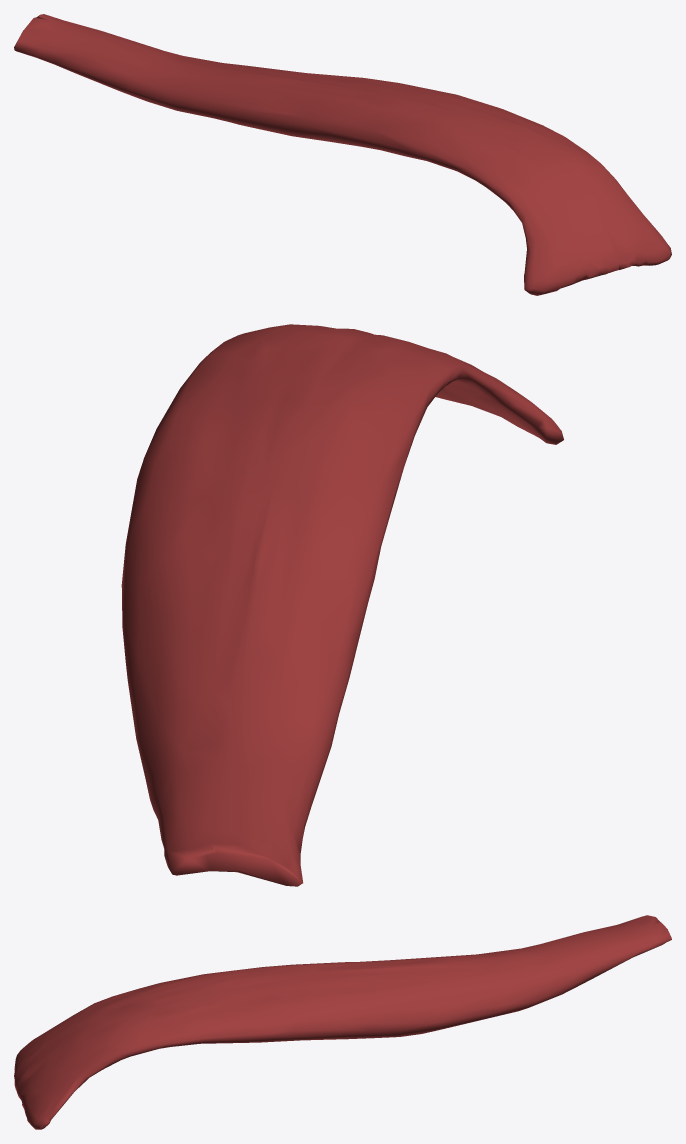
File: superior-rectus-muscle-l.glb
3 views of the same model, one above another, from view 1: azimuth 30°, elevation 25°; view 2: azimuth 150°, elevation 25°; view 3: azimuth 270°, elevation 25° (orthographic). The views are drawn at different scales.
Visible parts, largest first — view 1: Superior rectus muscle.l; view 2: Superior rectus muscle.l; view 3: Superior rectus muscle.l.
Part boxes in pixels (<box>): Superior rectus muscle.l: <box>14,14,671,295</box>; Superior rectus muscle.l: <box>121,324,563,886</box>; Superior rectus muscle.l: <box>14,915,671,1129</box>.
Bounding box in the file's own units: 0.0229 × 0.00645 × 0.0406.
